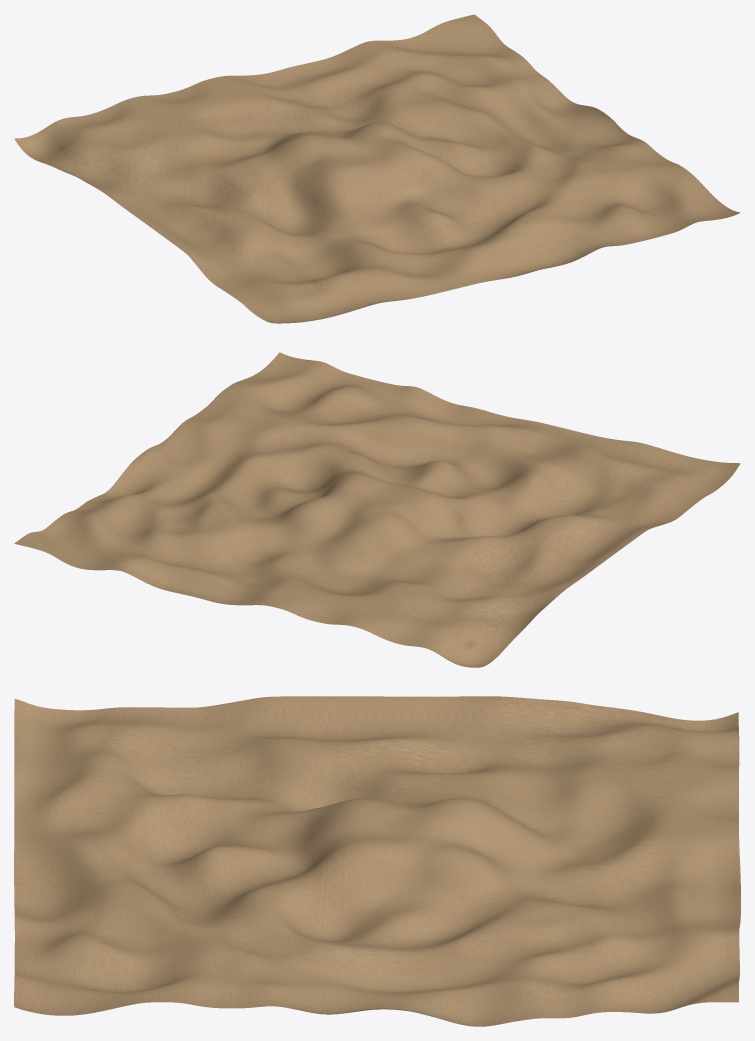
Rendered from beach.fbx.
3 views of the same model, one above another, from view 1: azimuth 30°, elevation 25°; view 2: azimuth 150°, elevation 25°; view 3: azimuth 270°, elevation 25° (orthographic). The views are drawn at different scales.
Parts seen in each view (by area): view 1: Plane; view 2: Plane; view 3: Plane.
Boxes of the visible parts, <box> form: Plane: <box>14,14,740,323</box>; Plane: <box>14,352,740,667</box>; Plane: <box>14,696,740,1026</box>.
Bounding box in the file's own units: 302 × 24.89 × 301.
1 material, 1 textured.
